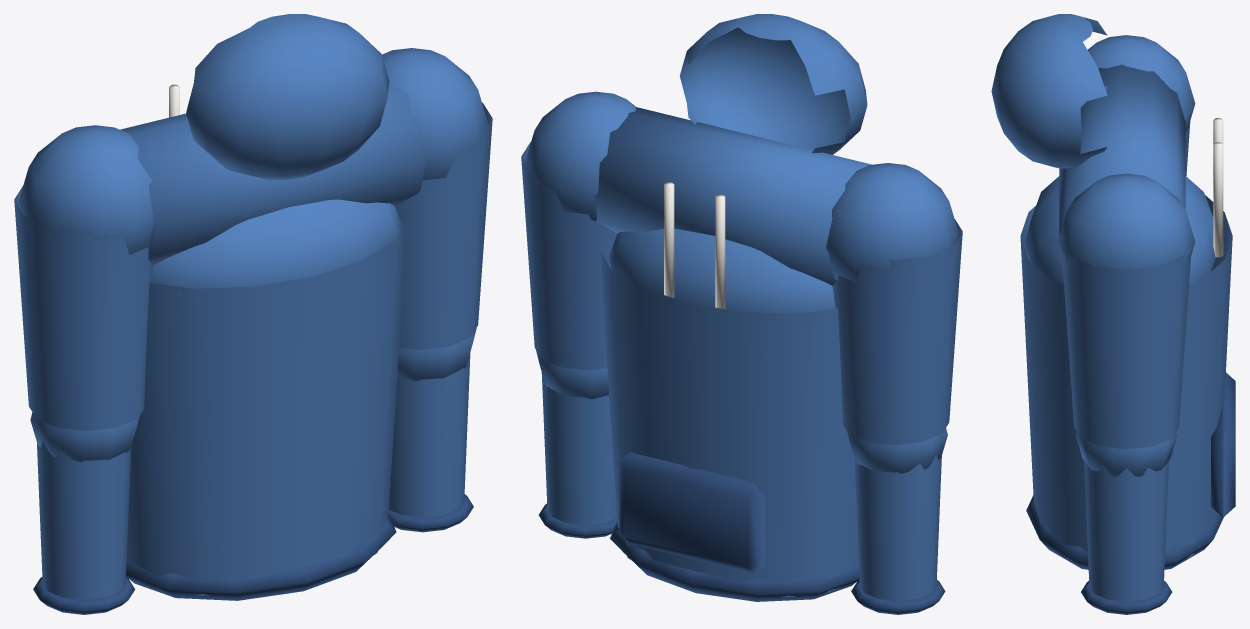
File: top_hoodie.glb
3 views of the same model, side by side, from view 1: azimuth 30°, elevation 25°; view 2: azimuth 150°, elevation 25°; view 3: azimuth 270°, elevation 25° (orthographic). The views are drawn at different scales.
Visible parts, largest first — view 1: Body, ArmL, ArmR, ForeArmL, ForeArmR; view 2: Body, ArmL, ArmR, ForeArmL, ForeArmR; view 3: Body, ArmR, ForeArmR, ArmL.
Boxes of the visible parts, x1,y1,x2,y2 form: Body: [120, 14, 425, 600]; ArmL: [14, 125, 153, 461]; ArmR: [382, 48, 492, 381]; ForeArmL: [33, 441, 135, 614]; ForeArmR: [388, 353, 473, 532]; Body: [594, 14, 871, 601]; ArmL: [826, 163, 962, 473]; ArmR: [521, 91, 635, 399]; ForeArmL: [851, 454, 945, 614]; ForeArmR: [538, 372, 617, 538]; Body: [991, 14, 1235, 569]; ArmR: [1058, 173, 1195, 476]; ForeArmR: [1081, 461, 1172, 614]; ArmL: [1088, 35, 1195, 175].
Bounding box in the file's own units: 0.58 × 0.674 × 0.298.
